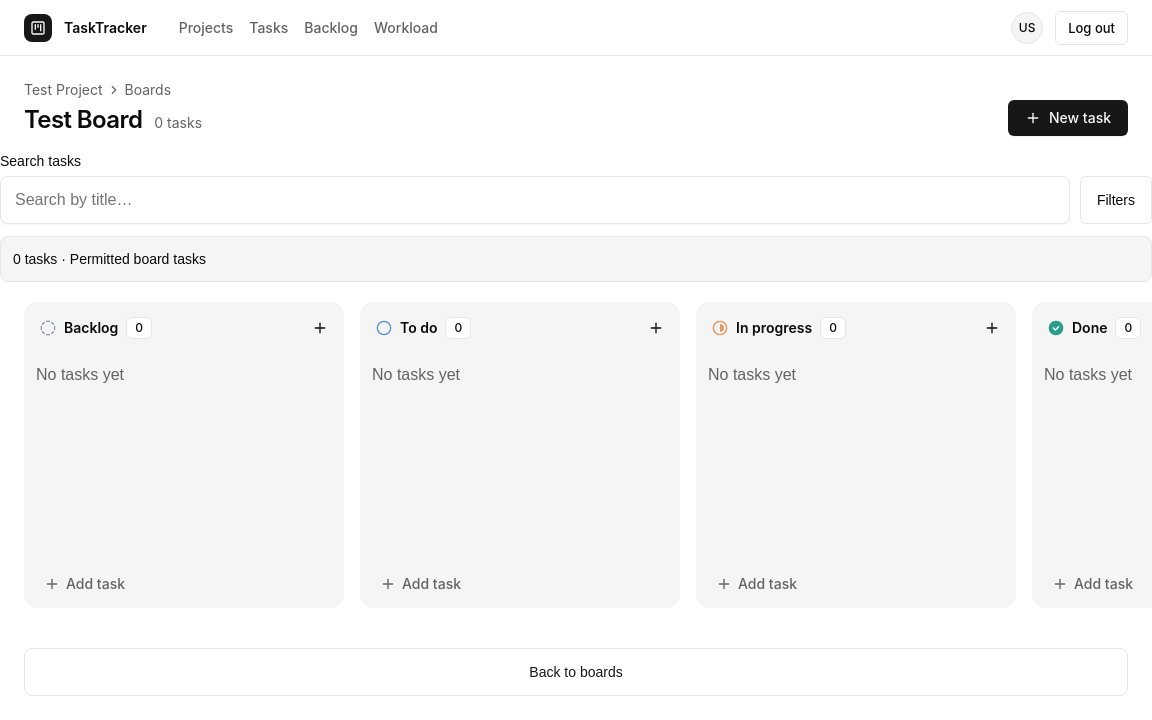
Test: Board & Task acceptance tests › submits createTask mutation and adds task without page reload
Click the button with test id "create-task-btn".
click(1068, 118)  # box [1008, 100, 1128, 136]
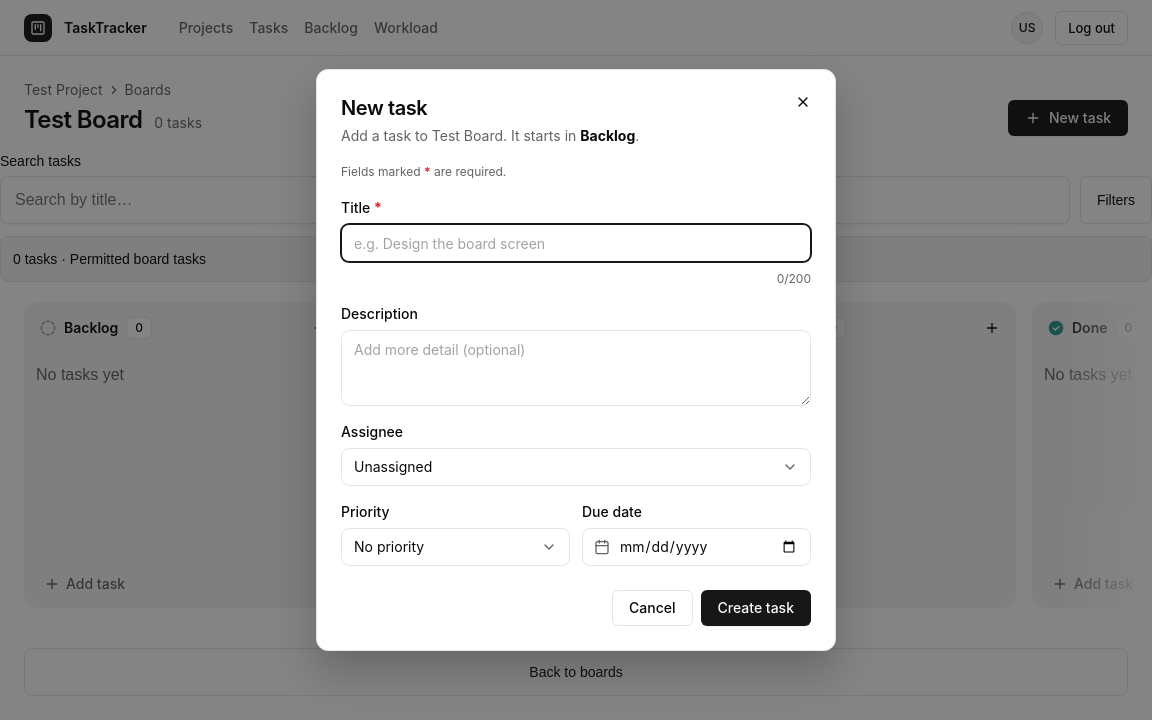
Type "Created via Form" into the field labelled "Title *".
click(576, 243); type("Created via Form")  # box [341, 224, 811, 262]
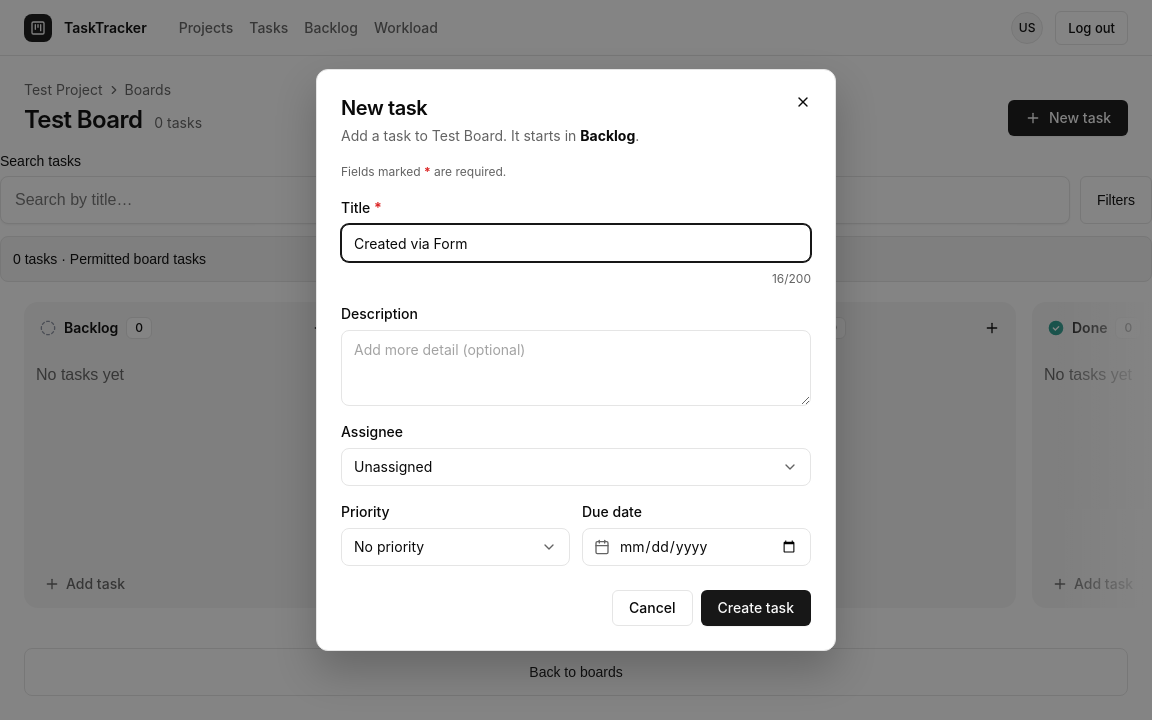
Click the button "Create task".
click(756, 608)  # box [700, 590, 811, 626]
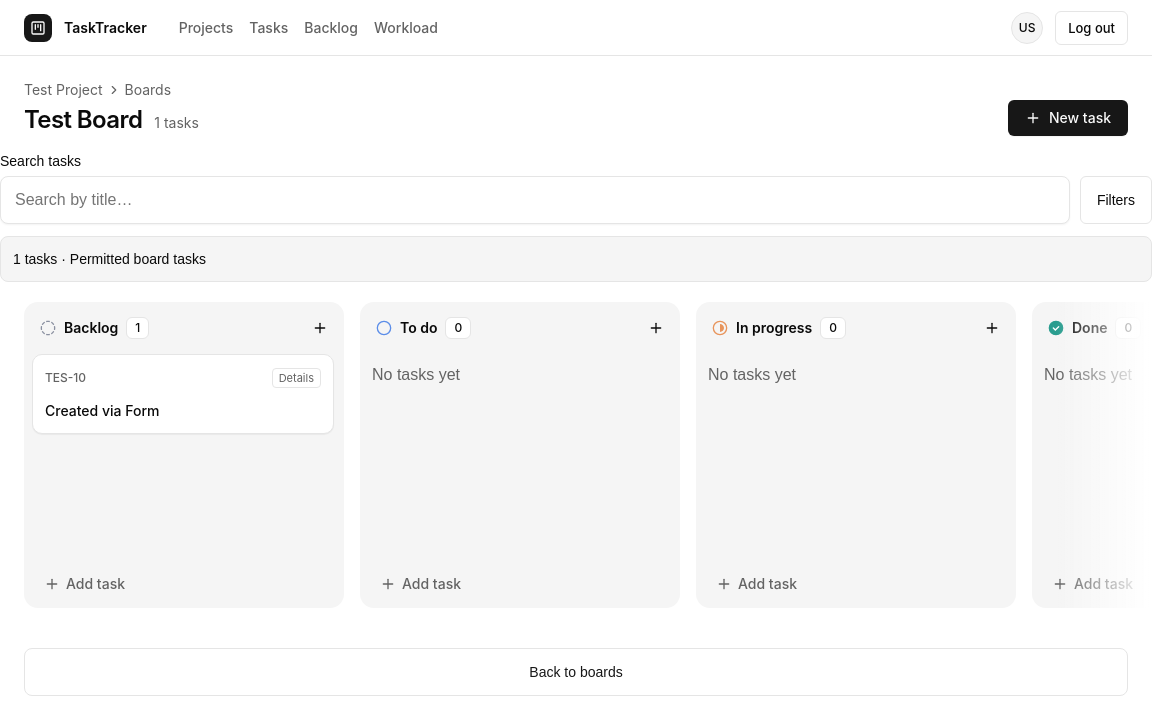
Now the text "Created via Form" is shown, box [45, 402, 160, 419]
